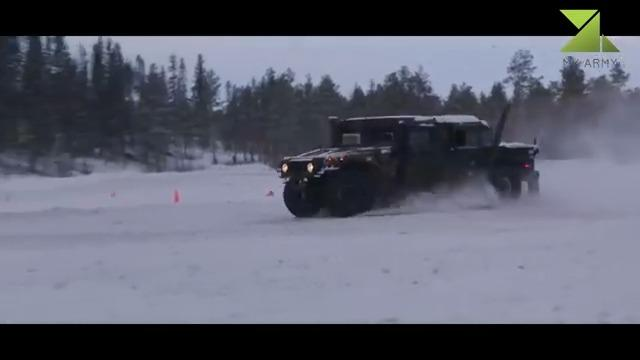MIL_HMMWV: (276, 115, 539, 218)
